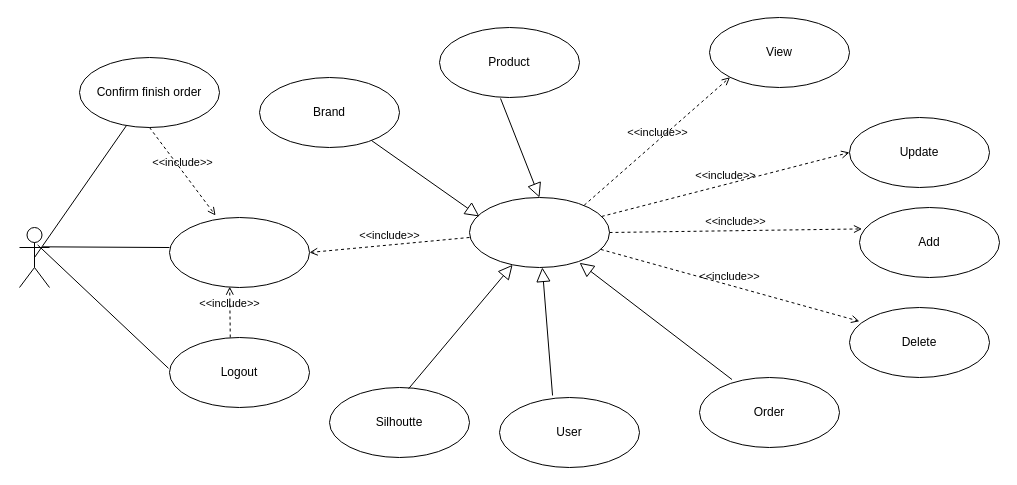
This 1017x485 diagram has some shape labels left out. Each missing label, with the box of its shape:
Admin: (18, 226, 50, 288)
Login: (168, 216, 310, 288)
Mange: (468, 196, 610, 268)
